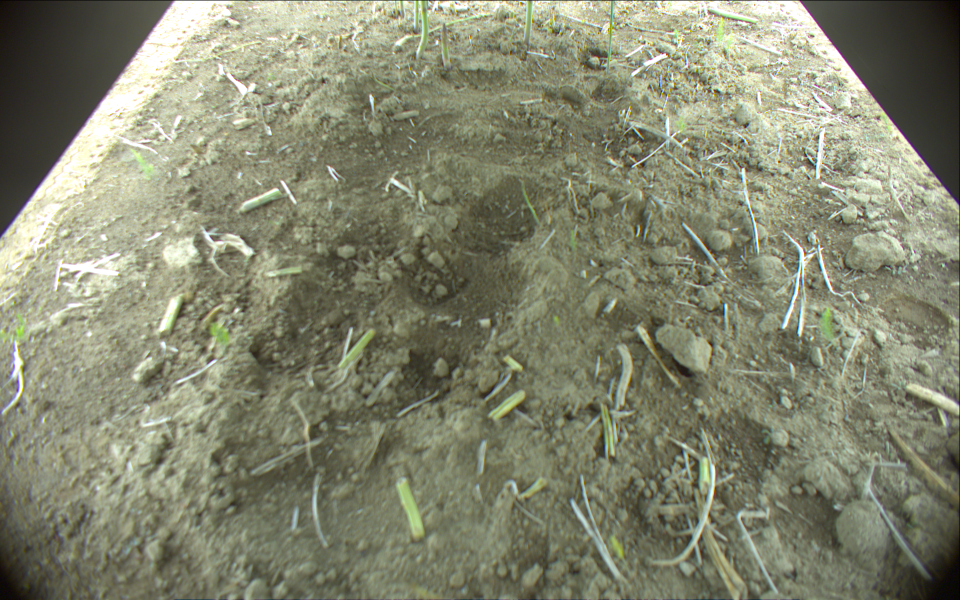aspa: (396, 11, 491, 45), (396, 479, 428, 543), (337, 329, 376, 371), (487, 389, 526, 421), (600, 403, 618, 462), (706, 6, 757, 25), (605, 1, 616, 72), (416, 1, 429, 59), (522, 1, 535, 43), (442, 25, 450, 66), (413, 1, 420, 29), (399, 1, 405, 18)
